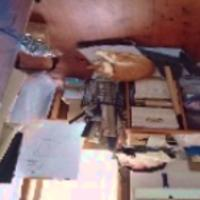asleep: (86, 47, 156, 83)
